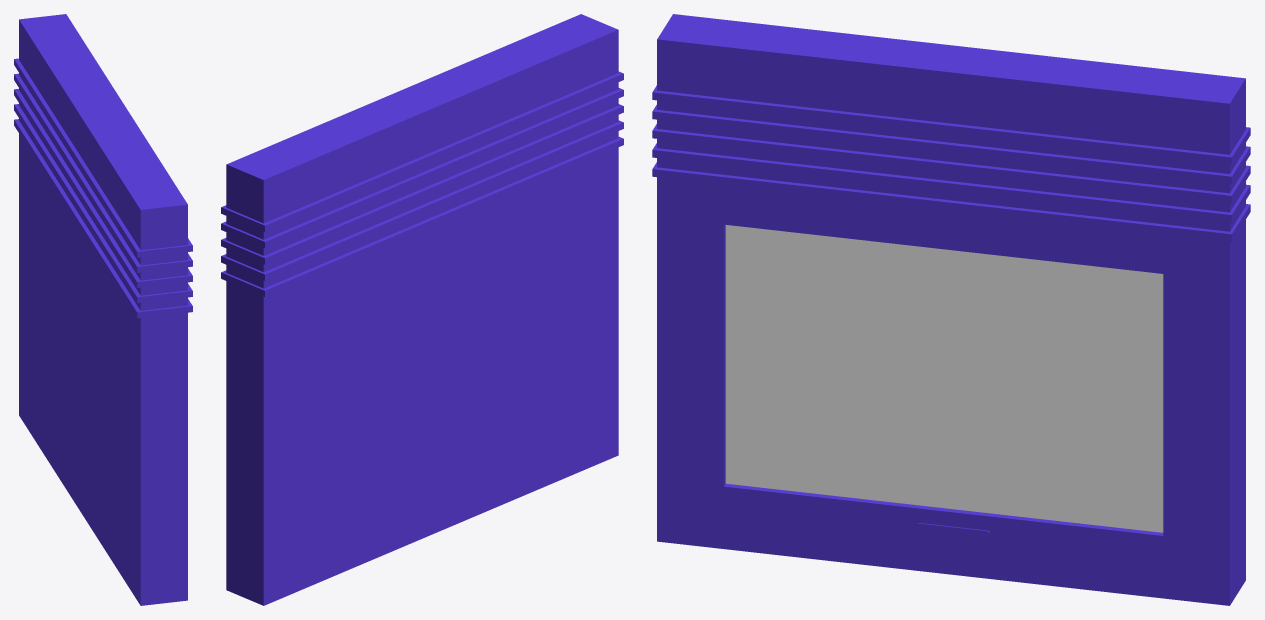
File: Cartridge.glb
The picture shows the model from 3 angles, left to right: view 1: azimuth 30°, elevation 25°; view 2: azimuth 150°, elevation 25°; view 3: azimuth 270°, elevation 25°; orthographic projection. The views are drawn at different scales.
Visible parts, largest first — view 1: Cube; view 2: Cube; view 3: Cube.
Boxes of the visible parts, x1=… form: Cube: x1=14, y1=14, x2=192, y2=605; Cube: x1=221, y1=14, x2=623, y2=605; Cube: x1=652, y1=14, x2=1250, y2=605.
Bounding box in the file's own units: 0.7587 × 1.87 × 2.02.
